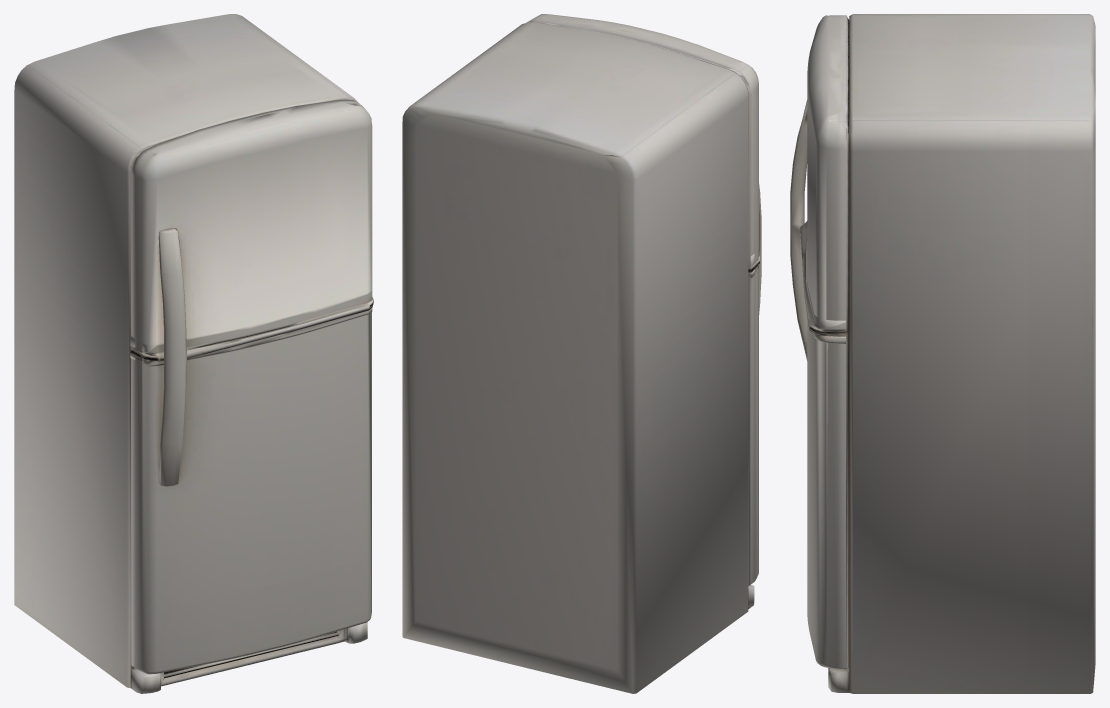
Rendered from Appliances__a_refrigerator_07685752_v4.cluster.glb.
3 views of the same model, side by side, from view 1: azimuth 30°, elevation 25°; view 2: azimuth 150°, elevation 25°; view 3: azimuth 270°, elevation 25° (orthographic). The views are drawn at different scales.
Visible parts, largest first — view 1: material; view 2: material; view 3: material.
Part boxes in pixels (left/top/right/bottom): material: left=14, top=14, right=373, bottom=693; material: left=402, top=14, right=761, bottom=693; material: left=790, top=14, right=1095, bottom=693.
Size of the model in its own units: 0.8494 by 1.9 by 0.908.
Materials: 1 (1 with a texture image).
